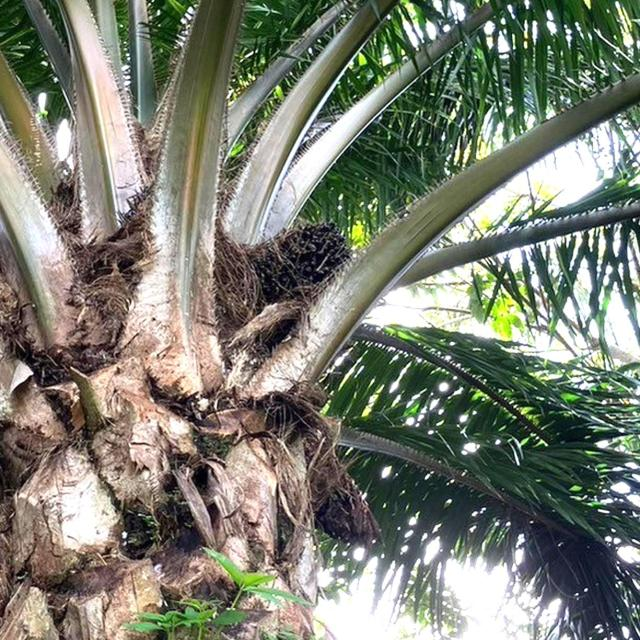unripe: (240, 210, 356, 320)
